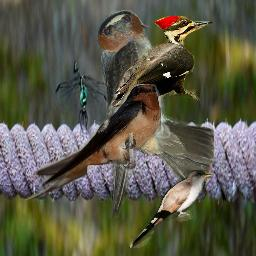Cuckoo: (129, 170, 214, 248)
Swallow: (96, 10, 214, 222), (19, 84, 161, 200)
Woodpecker: (111, 16, 216, 107)
